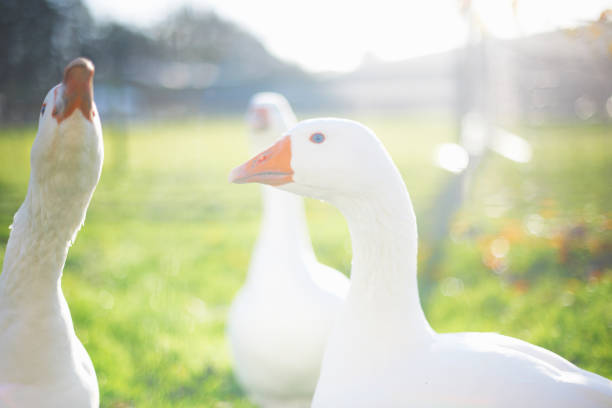goose: (228, 113, 607, 408), (1, 51, 120, 408)
